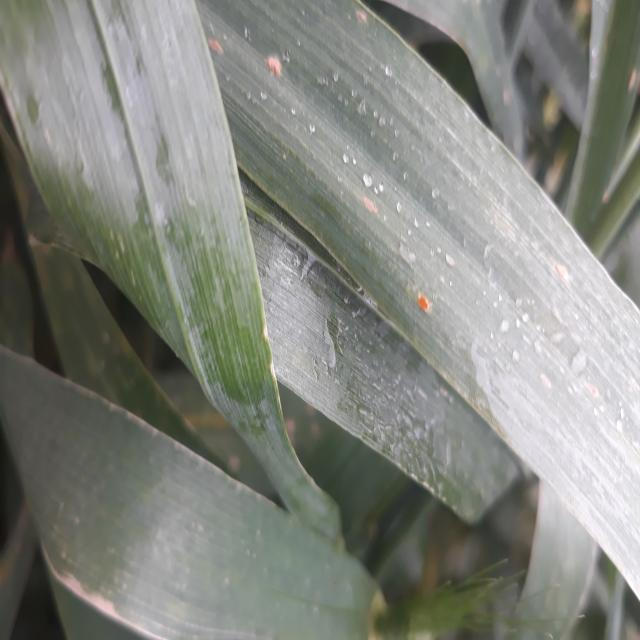orang_rust: (408, 258, 445, 357)
